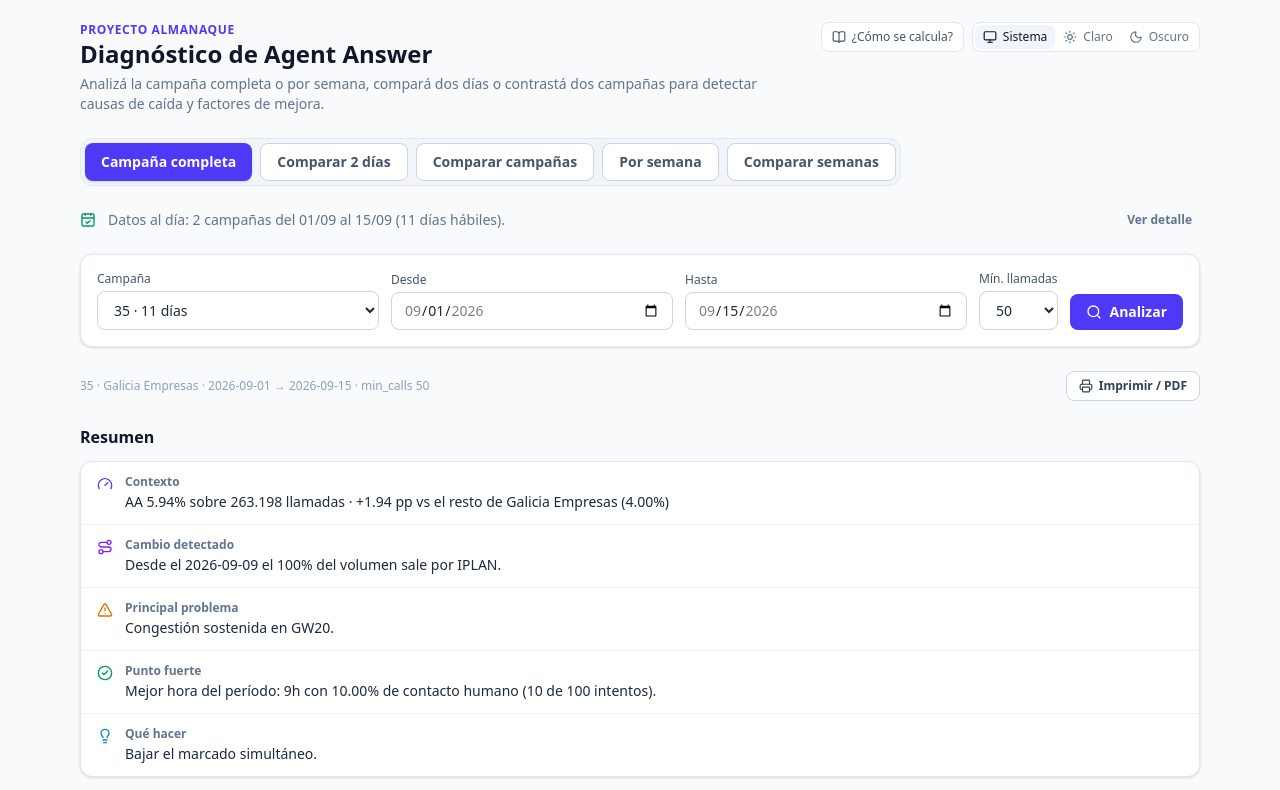
it: Exportación por modo › WeekMode exporta los CSV con prefijo semana_ y marca la semana parcial
This screenshot has width=1280, height=790.
Click the tab with test id "tab-week": (660, 162) [602,143,719,181]
(page scrolled)
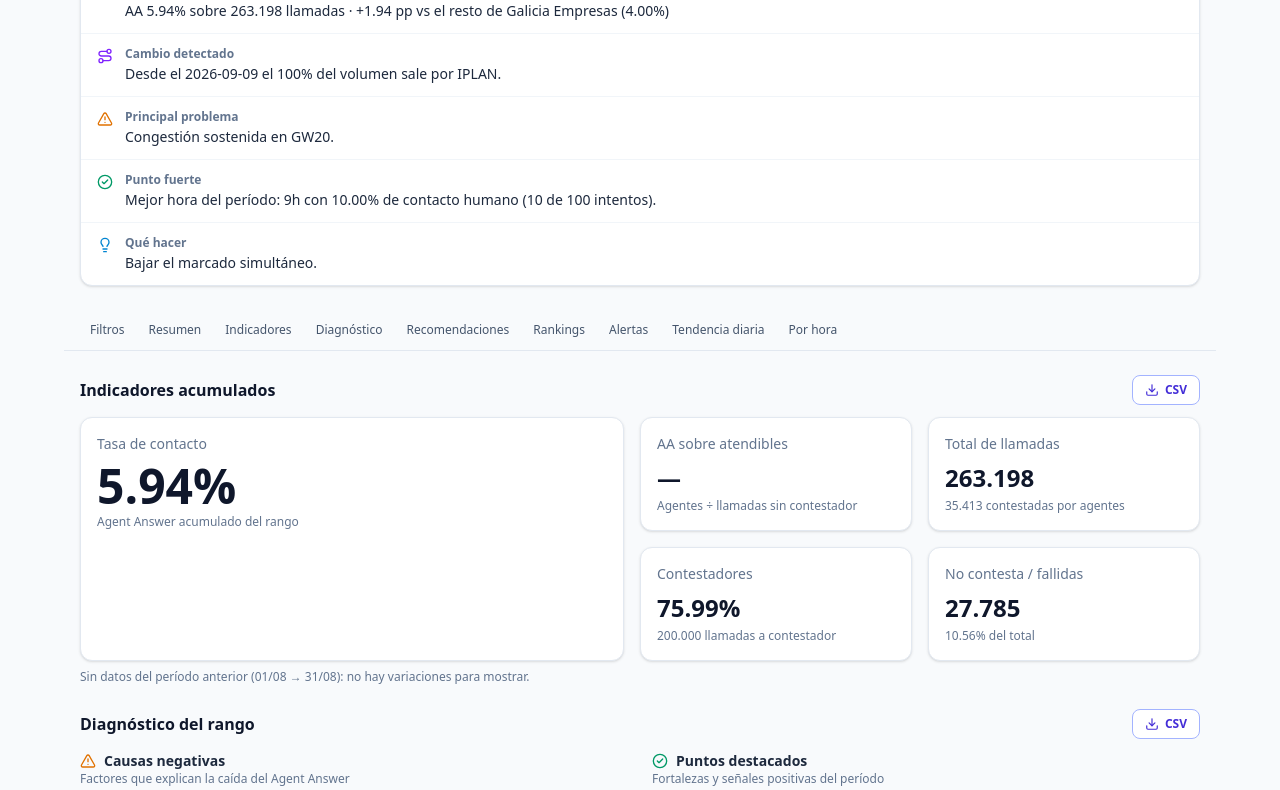
Click the button with test id "export-csv": (1166, 390) [1132,375,1200,405]
(page scrolled)
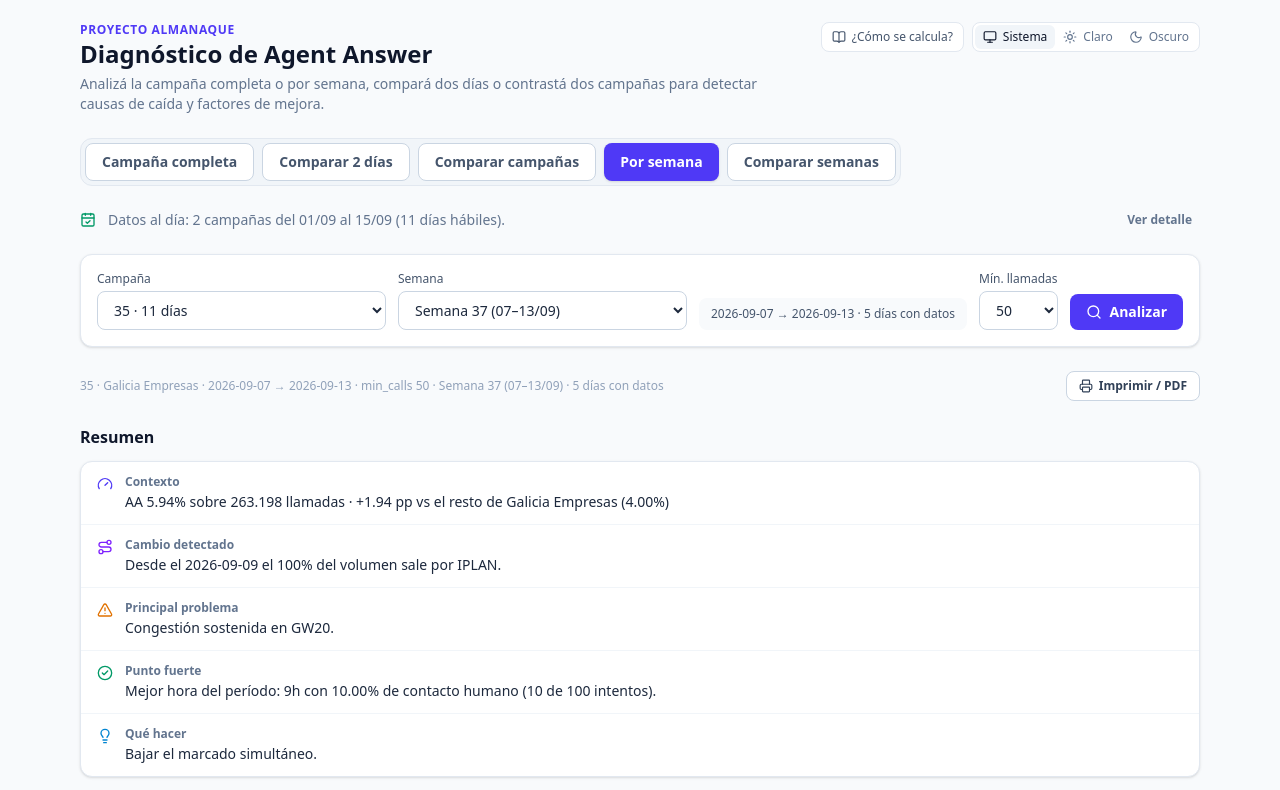
Select "Semana 38 (14–20/09) · parcial" in the dropdown labelled "Semana": (542, 310) [398,291,687,330]
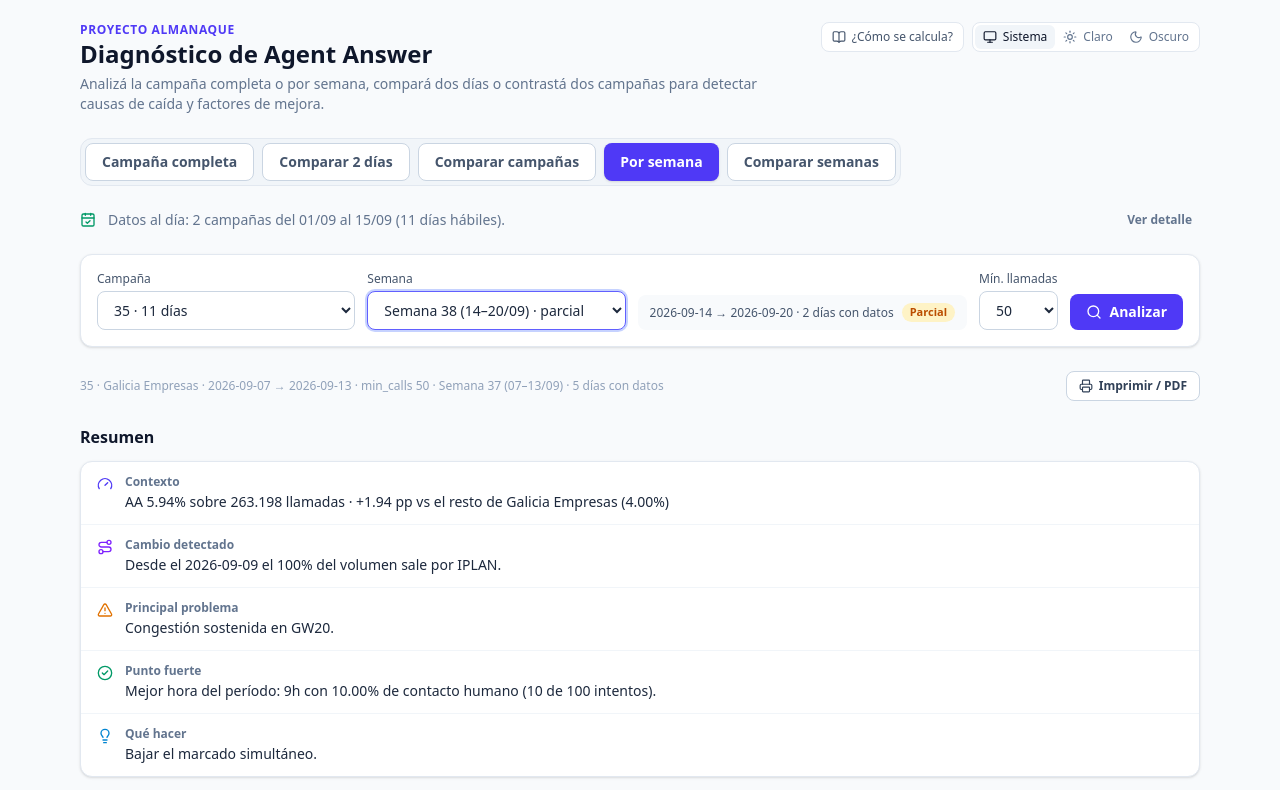
Click the button with test id "filter-week-submit": (1126, 312) [1070,294,1183,330]
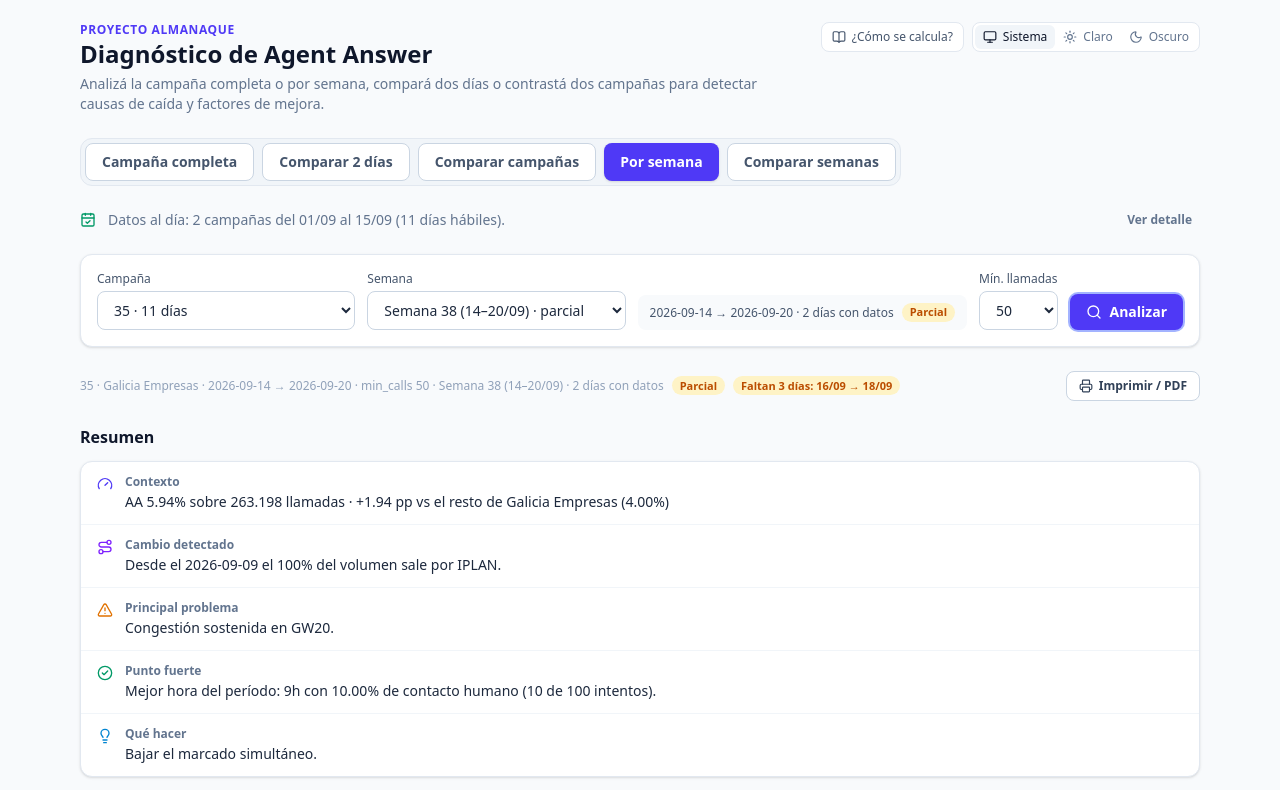
Expected: the text with test id "filter-week-partial" is shown, [902,303,955,322]
Expected: the text with test id "week-partial-badge" is shown, [672,376,725,395]
